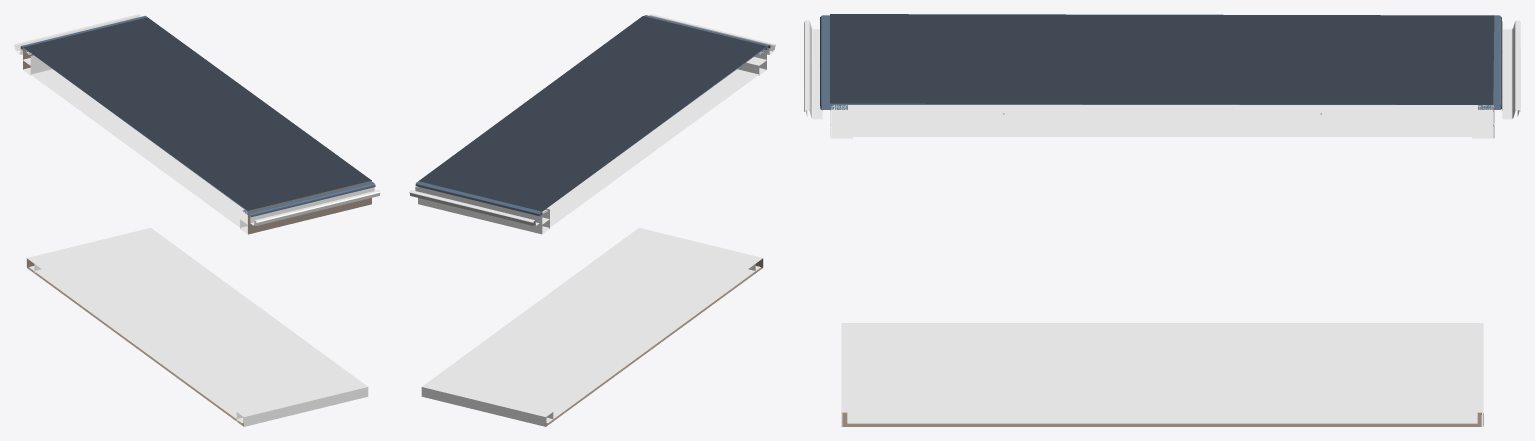
Rendered from si_res_body_roof_flat.dae.
3 views of the same model, side by side, from view 1: azimuth 30°, elevation 25°; view 2: azimuth 150°, elevation 25°; view 3: azimuth 270°, elevation 25° (orthographic). The views are drawn at different scales.
Parts seen in each view (by area): view 1: si_res_body_roof_flat_a300, si_res_body_roof_flat_a10, si_res_body_roof_flat_a70; view 2: si_res_body_roof_flat_a300, si_res_body_roof_flat_a10, si_res_body_roof_flat_a70; view 3: si_res_body_roof_flat_a300, si_res_body_roof_flat_a10, si_res_body_roof_flat_a70.
Boxes of the visible parts, x1,y1,x2,y2 form: si_res_body_roof_flat_a300: (14, 14, 380, 426); si_res_body_roof_flat_a10: (23, 17, 371, 426); si_res_body_roof_flat_a70: (14, 44, 380, 426); si_res_body_roof_flat_a300: (409, 14, 775, 426); si_res_body_roof_flat_a10: (418, 16, 766, 426); si_res_body_roof_flat_a70: (409, 44, 775, 426); si_res_body_roof_flat_a300: (804, 15, 1520, 426); si_res_body_roof_flat_a10: (830, 14, 1494, 426); si_res_body_roof_flat_a70: (805, 105, 1519, 426).
Bounding box in the file's own units: 2 × 6.76 × 3.36.
